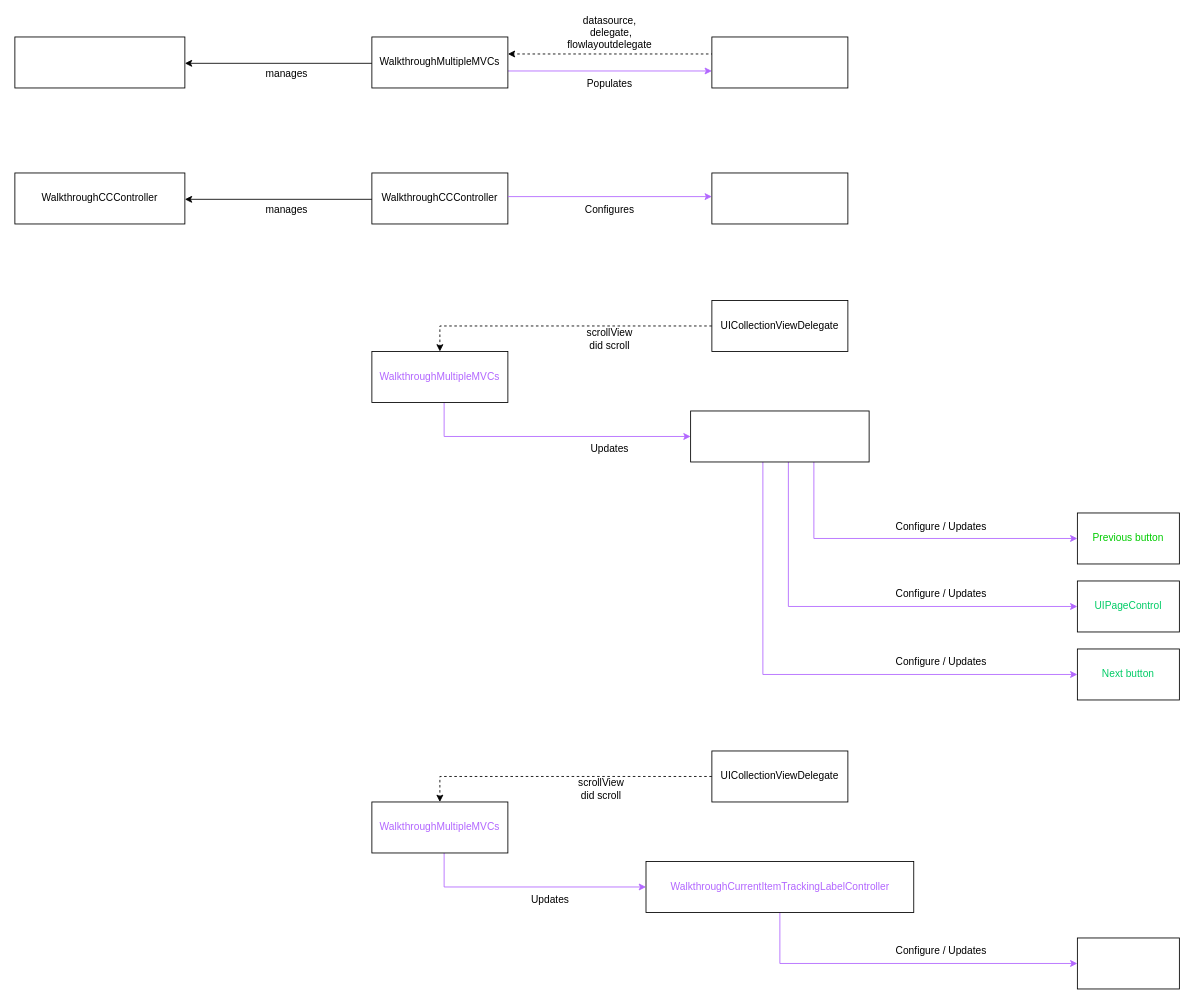
Image size: 1194x1004. Some labels were removed from this diagram. Each missing label, with the centre of its shape:
Array<WalkthroughCCController>: the point at 99,62
UICollectionView: the point at 779,62
UILabel: the point at 1128,963
WalkthroughBottomViewController: the point at 779,436
WalkthroughCC: the point at 779,198
